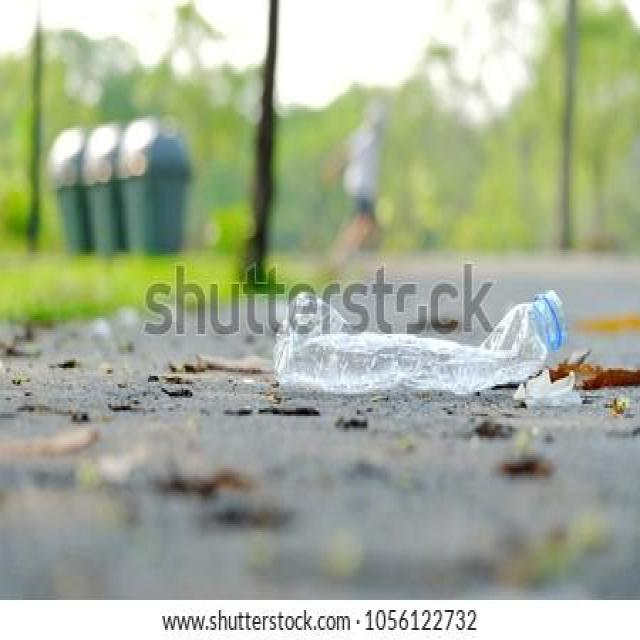bottle: (270, 281, 580, 399)
